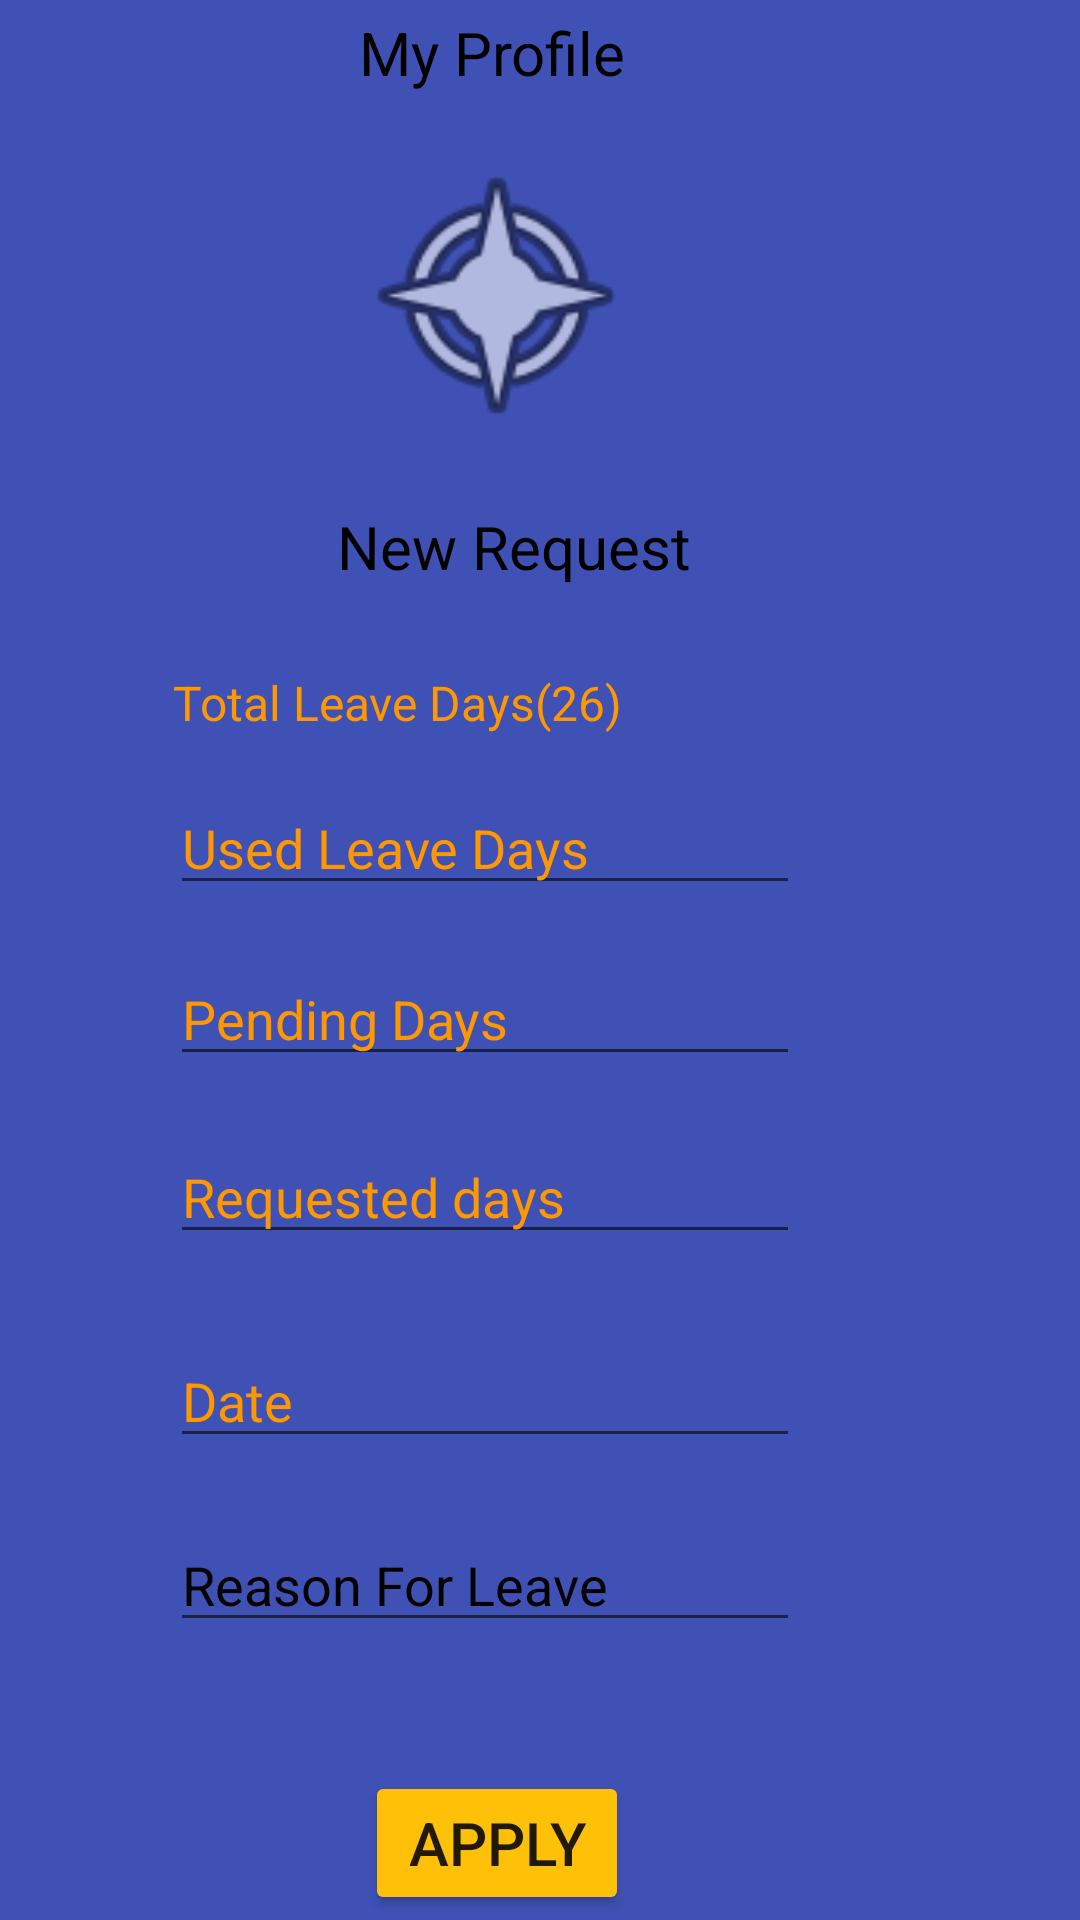

Icons on this 1080px×1920px Android screen, each with its box as (x1, y1, x2, y2):
compass: (378, 178, 614, 414)
